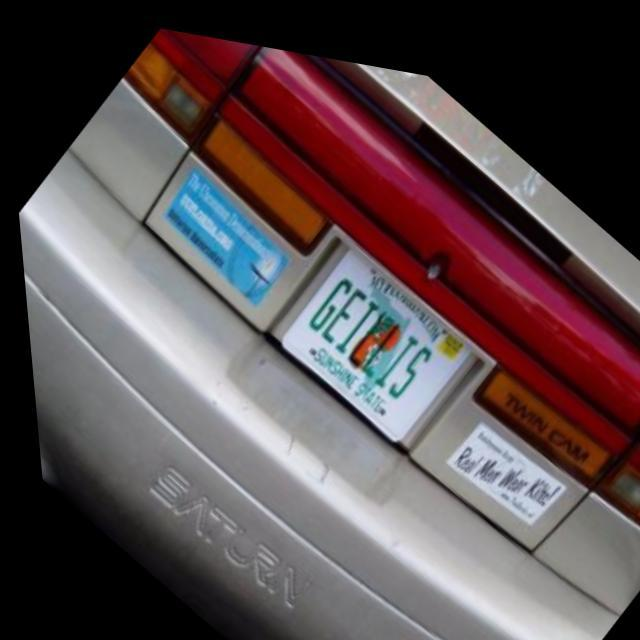license_plate: (264, 222, 475, 446)
